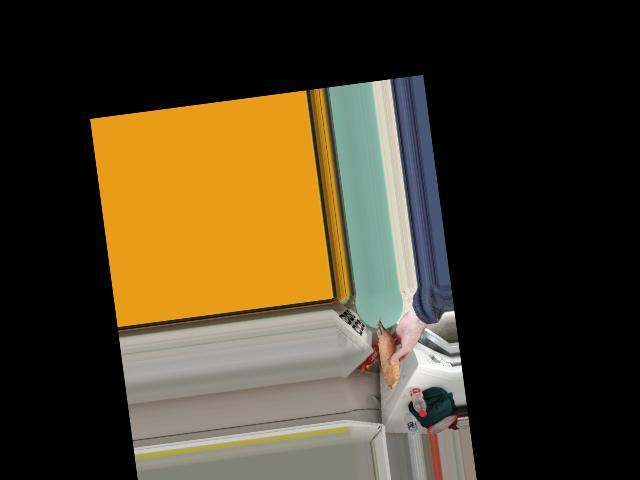sweet_potato: (373, 316, 405, 384)
